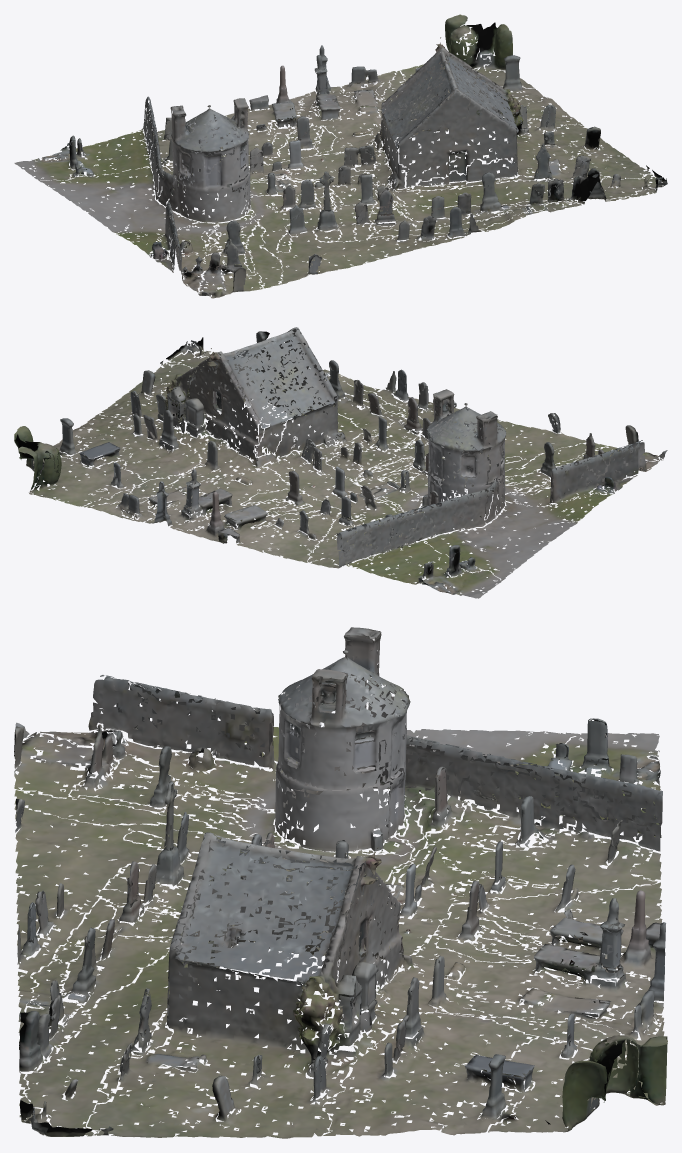
Rendered from banchory.glb.
3 views of the same model, one above another, from view 1: azimuth 30°, elevation 25°; view 2: azimuth 150°, elevation 25°; view 3: azimuth 270°, elevation 25° (orthographic). The views are drawn at different scales.
Visible parts, largest first — view 1: Object_8, Object_1, Object_7, Object_0, Object_2, Object_4, Object_15, Object_9, Object_3, Object_6, Object_16, Object_12 (+6 smaller); view 2: Object_2, Object_10, Object_6, Object_4, Object_8, Object_5, Object_3, Object_7, Object_11, Object_0, Object_15, Object_1 (+6 smaller); view 3: Object_9, Object_1, Object_10, Object_0, Object_6, Object_5, Object_8, Object_3, Object_7, Object_2, Object_4, Object_14 (+6 smaller).
Part boxes in pixels (<box>): Object_8: <box>367,44,607,211</box>; Object_1: <box>149,149,590,298</box>; Object_7: <box>255,70,663,250</box>; Object_0: <box>168,103,250,295</box>; Object_2: <box>38,167,340,280</box>; Object_4: <box>15,116,536,231</box>; Object_15: <box>353,37,532,238</box>; Object_9: <box>478,90,665,201</box>; Object_3: <box>72,130,544,292</box>; Object_6: <box>190,67,448,176</box>; Object_16: <box>222,45,436,262</box>; Object_12: <box>14,134,355,296</box>; Object_2: <box>357,442,646,581</box>; Object_10: <box>53,356,276,489</box>; Object_6: <box>145,427,355,562</box>; Object_4: <box>326,394,514,598</box>; Object_8: <box>193,327,399,461</box>; Object_5: <box>194,351,441,568</box>; Object_3: <box>315,372,659,561</box>; Object_7: <box>83,350,419,527</box>; Object_11: <box>14,389,599,550</box>; Object_0: <box>422,395,662,515</box>; Object_15: <box>174,328,430,468</box>; Object_1: <box>323,369,659,513</box>; Object_9: <box>20,926,372,1138</box>; Object_1: <box>14,727,412,1045</box>; Object_10: <box>182,862,545,1136</box>; Object_0: <box>27,634,410,851</box>; Object_6: <box>354,882,663,1054</box>; Object_5: <box>19,759,662,1123</box>; Object_8: <box>101,832,403,1098</box>; Object_3: <box>14,675,543,1015</box>; Object_7: <box>25,868,663,1136</box>; Object_2: <box>88,677,579,903</box>; Object_4: <box>61,733,660,1022</box>; Object_14: <box>187,885,667,1136</box>.
Bounding box in the file's own units: 10.32 × 2.27 × 7.24.
